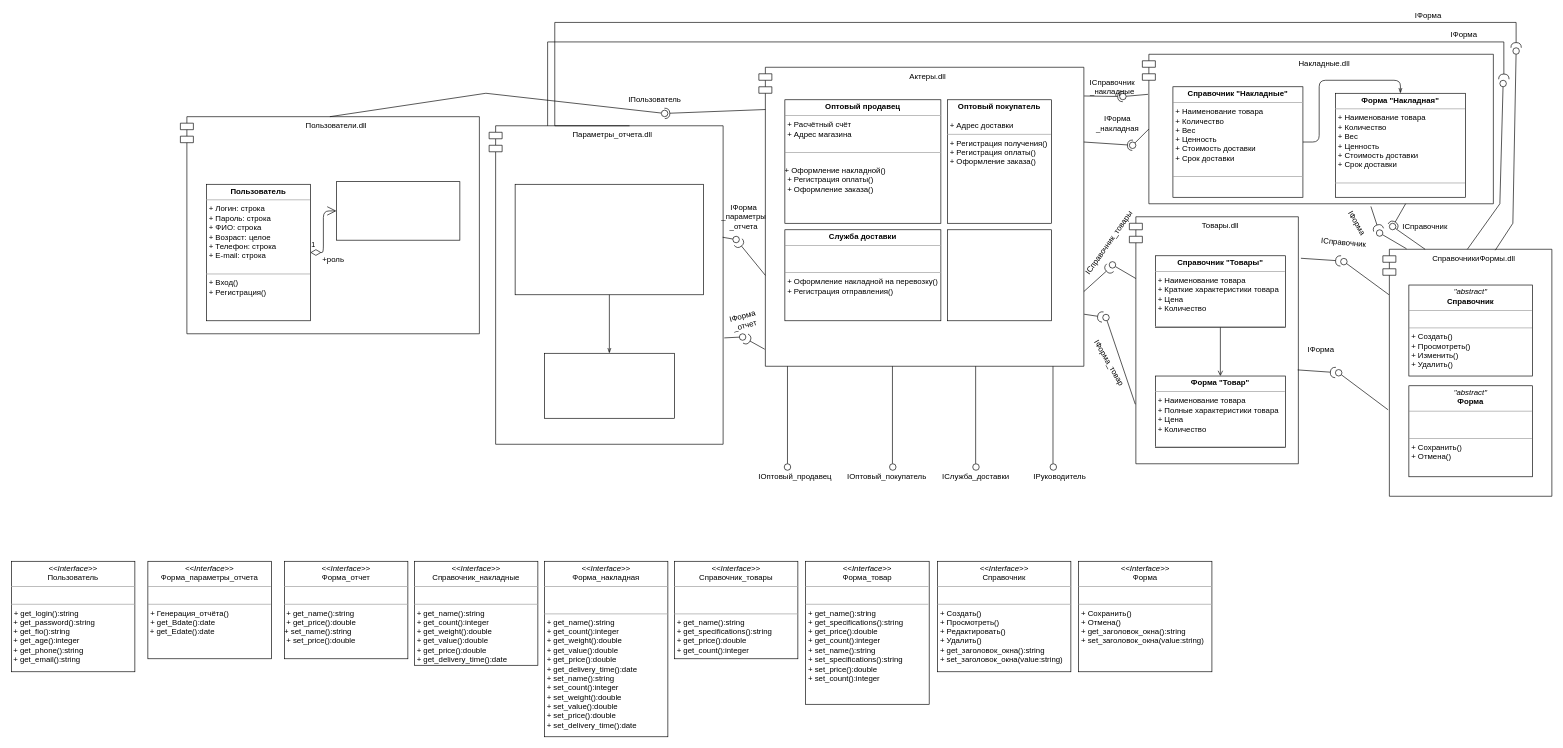
This 1563x748 diagram has some shape labels left out. Here are the shapes that lost their labels. From the top down, the centre of each, then its label:
the point at 398,210: "abstract" Роль + выход()
the point at 609,239: Форма "Параметры отчёта" + Начальная дата + Конечная дата + Генерация_отчёта()
the point at 999,275: Руководитель + Просмотр отчёта()
the point at 609,385: Форма "Отчёт" + Наименование товара + Средняя цена товара
